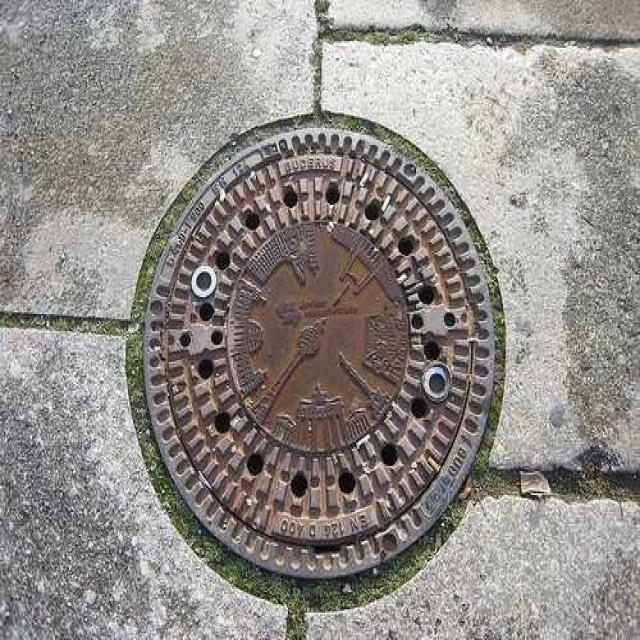manhole: (133, 113, 503, 585)
